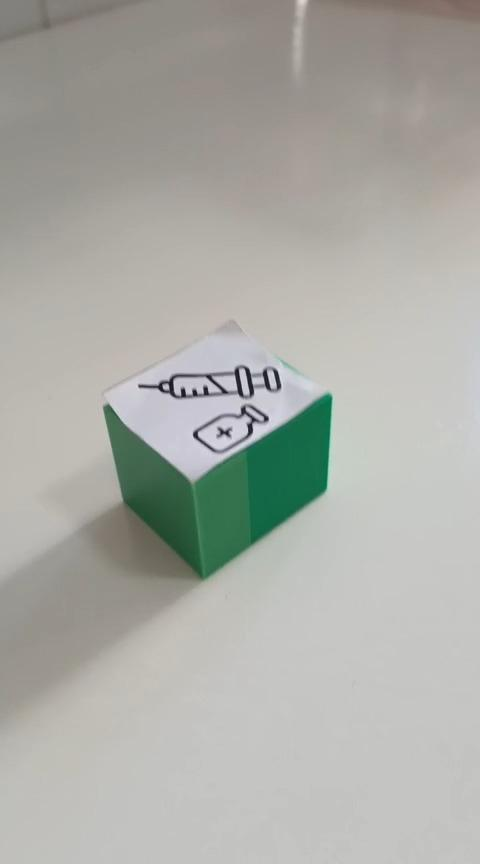antiseptic cream: (100, 317, 333, 579)
